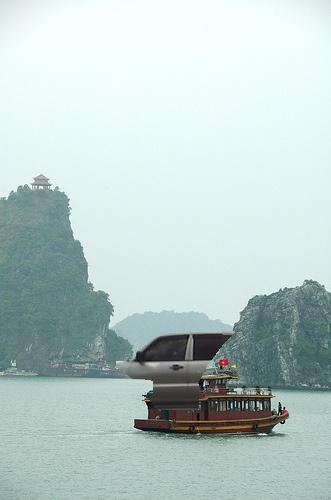tampered: (117, 332, 235, 410)
